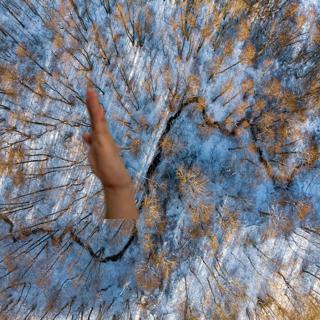RIGHT: (81, 91, 143, 204)
